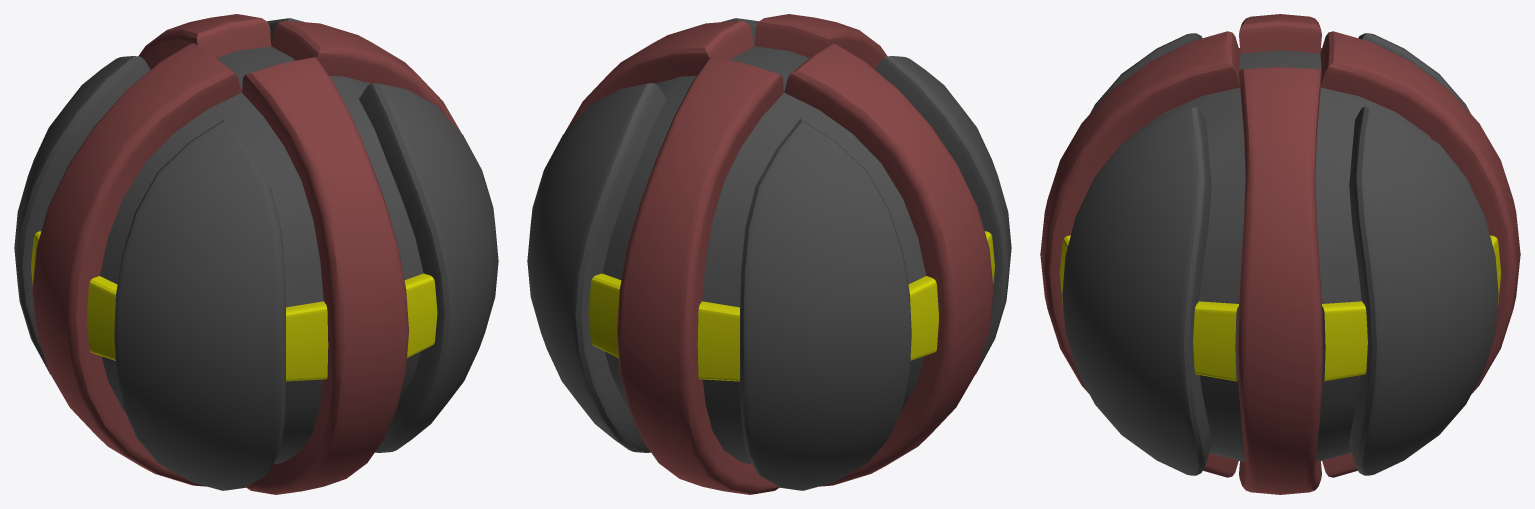
File: Bomb_A.fbx
The picture shows the model from 3 angles, left to right: view 1: azimuth 30°, elevation 25°; view 2: azimuth 150°, elevation 25°; view 3: azimuth 270°, elevation 25°; orthographic projection.
Parts seen in each view (by area): view 1: pCube64; view 2: pCube64; view 3: pCube64.
Boxes of the visible parts, x1,y1,x2,y2 form: pCube64: (14,14,498,494); pCube64: (527,14,1011,494); pCube64: (1040,14,1520,494).
Bounding box in the file's own units: 96.35 × 93.14 × 96.35.
